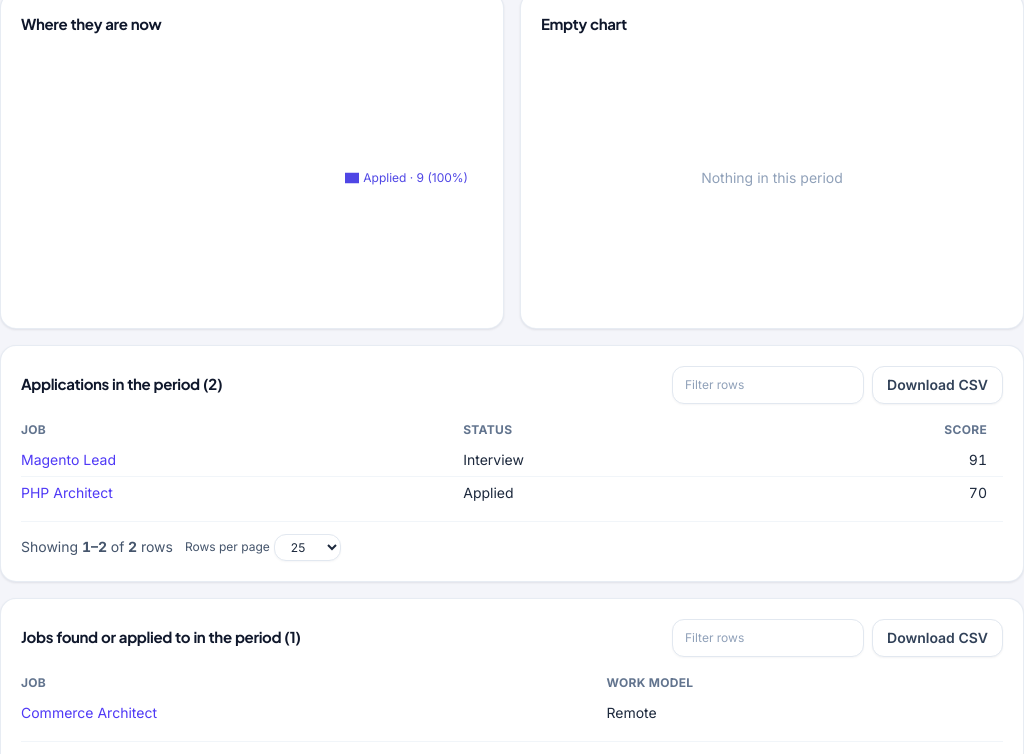
Test case: ReportsPage › shows KPIs with the change, charts, and a sortable, filterable table
This screenshot has width=1024, height=754.
(page scrolled)
Expected: the picture named "Where they are now chart" is shown, [21, 48, 483, 308]
Expected: the text "Nothing in this period" is shown, [701, 168, 843, 186]
Type "php" into the field named "Filter rows: Applications in the period".
click(768, 384); type("php")  # box [672, 366, 864, 404]
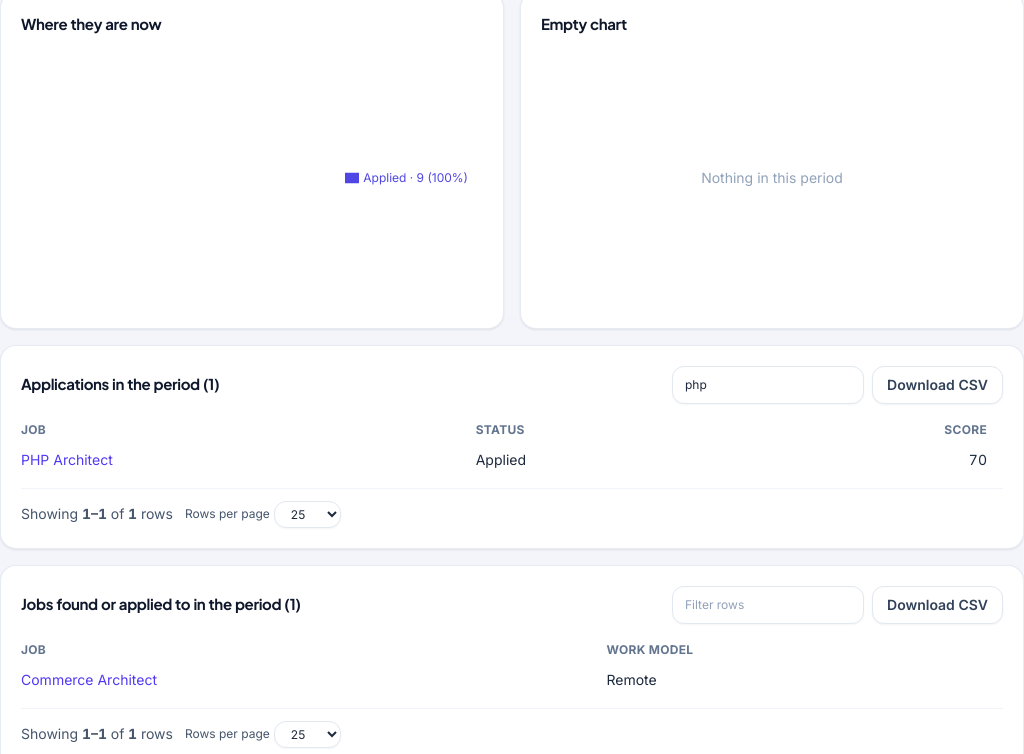
Expected: the link "Magento Lead" is gone
Clear the field named "Filter rows: Applications in the period" at coordinates (768, 384), box [672, 366, 864, 404]
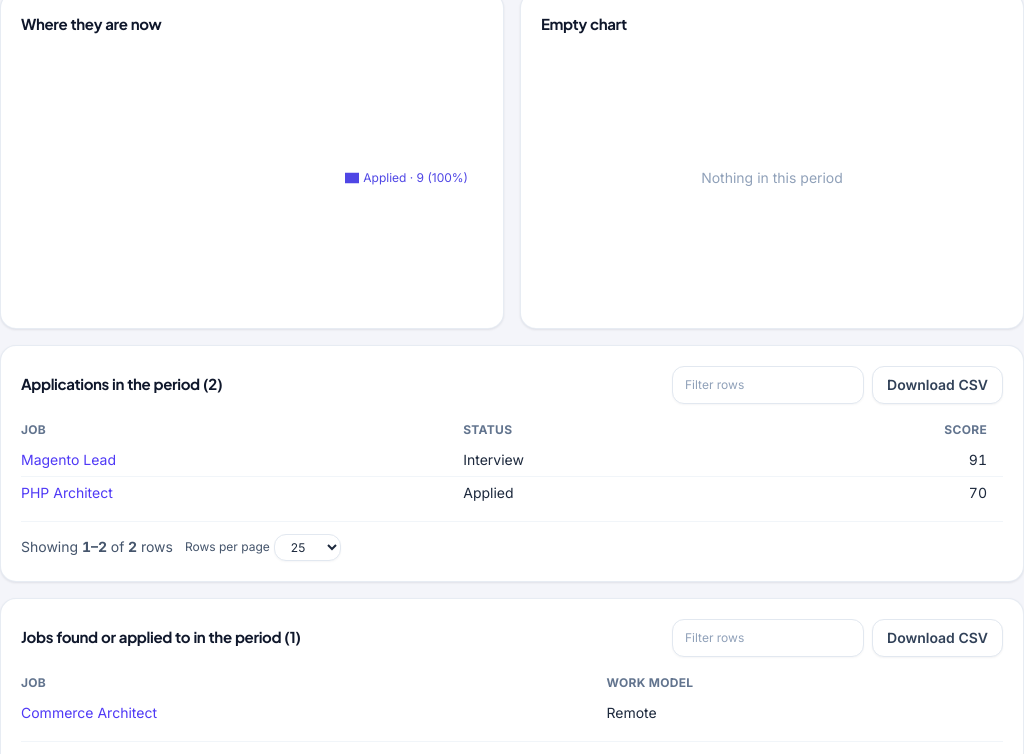
Click the button "Score".
click(966, 430)  # box [944, 422, 987, 438]
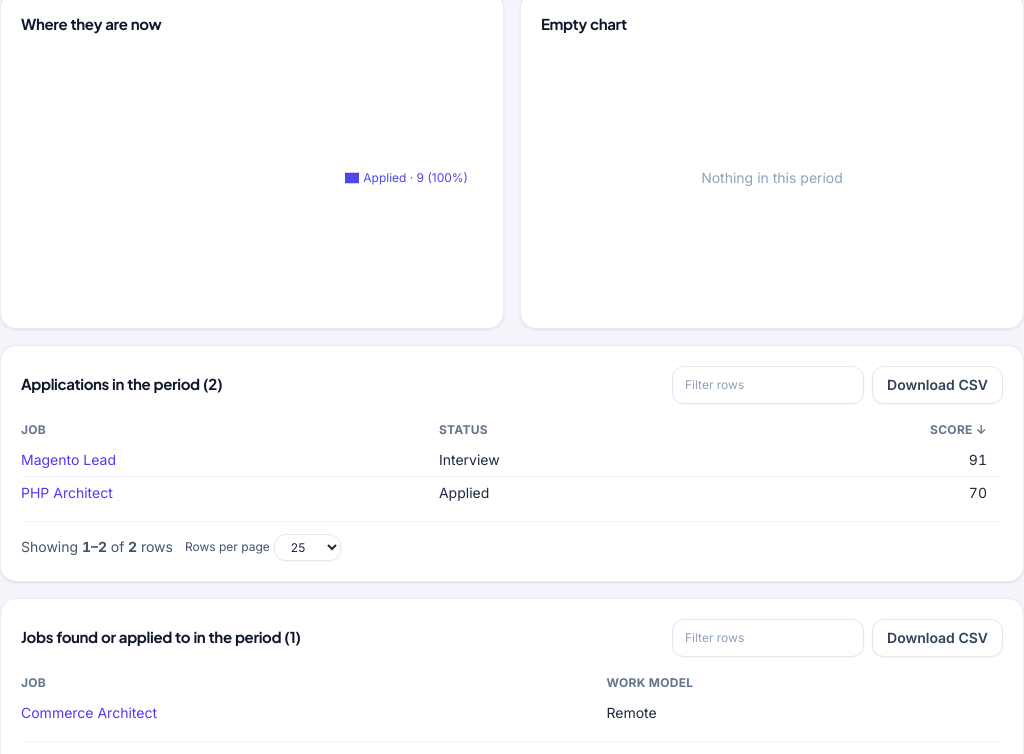
Click the button "Score ↓".
click(958, 430)  # box [930, 422, 987, 438]
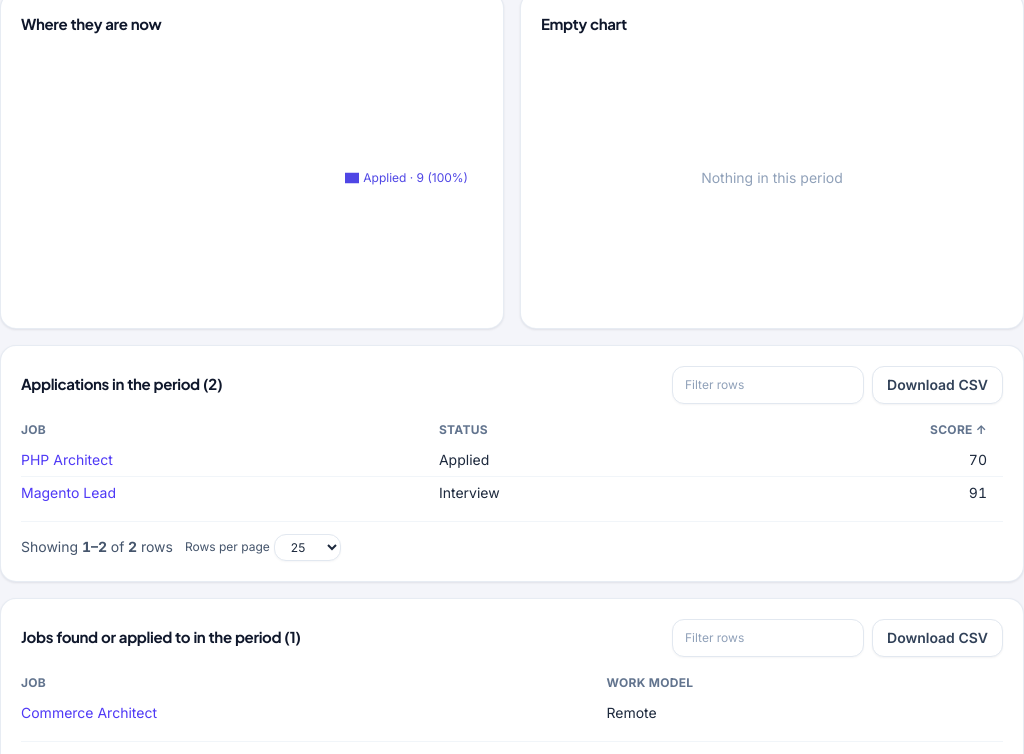
Expected: the row "PHP Architect Applied 70" is shown, [21, 444, 1003, 476]
